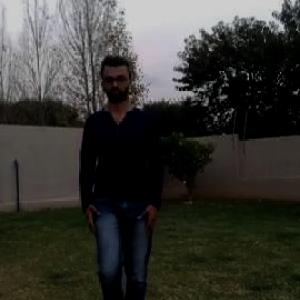follow: (80, 47, 163, 299)
